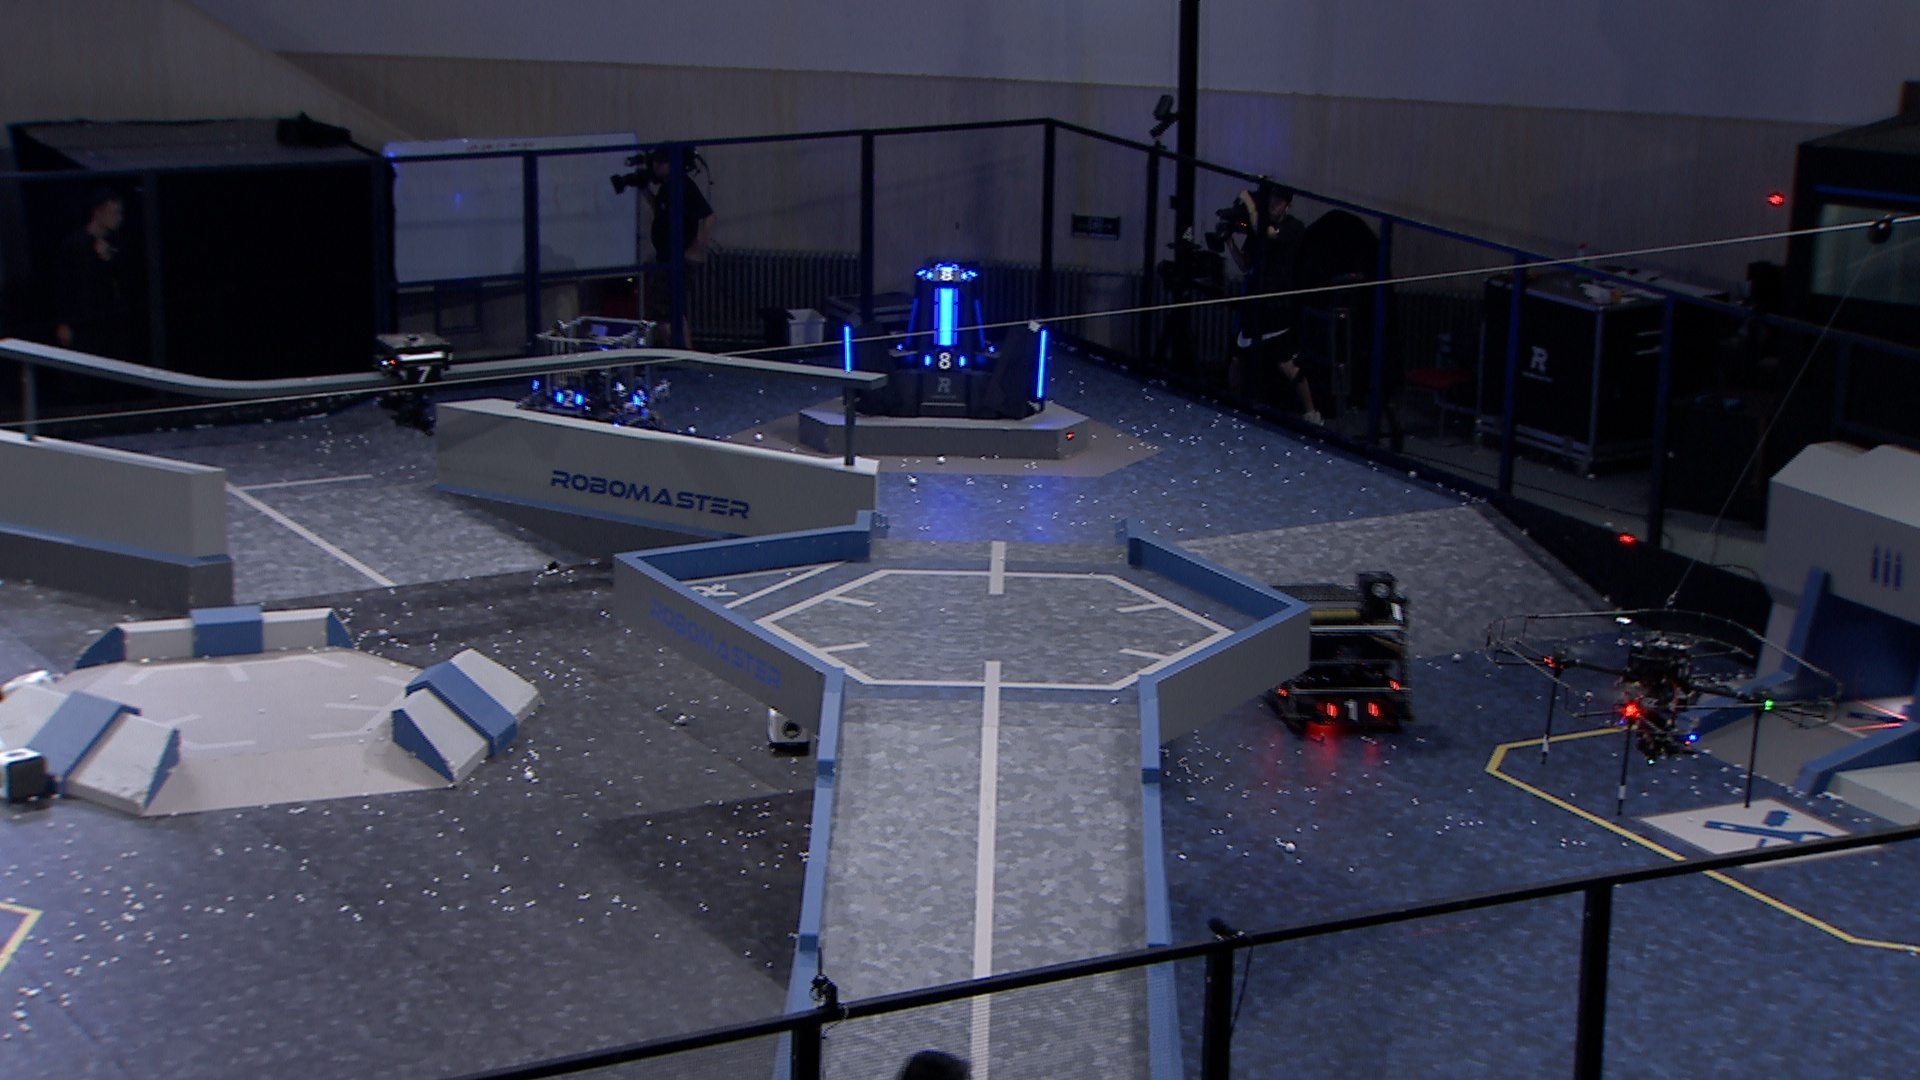armor: (1323, 699, 1379, 727), (935, 287, 957, 348), (902, 295, 922, 353), (1034, 328, 1048, 404), (924, 351, 969, 373), (973, 299, 992, 352), (400, 365, 442, 385), (553, 386, 585, 410), (923, 268, 969, 284), (843, 324, 856, 375), (632, 386, 651, 410)
base: (840, 262, 1051, 423)
car: (1254, 580, 1420, 732), (514, 314, 671, 438)
watcher: (372, 330, 448, 439)
